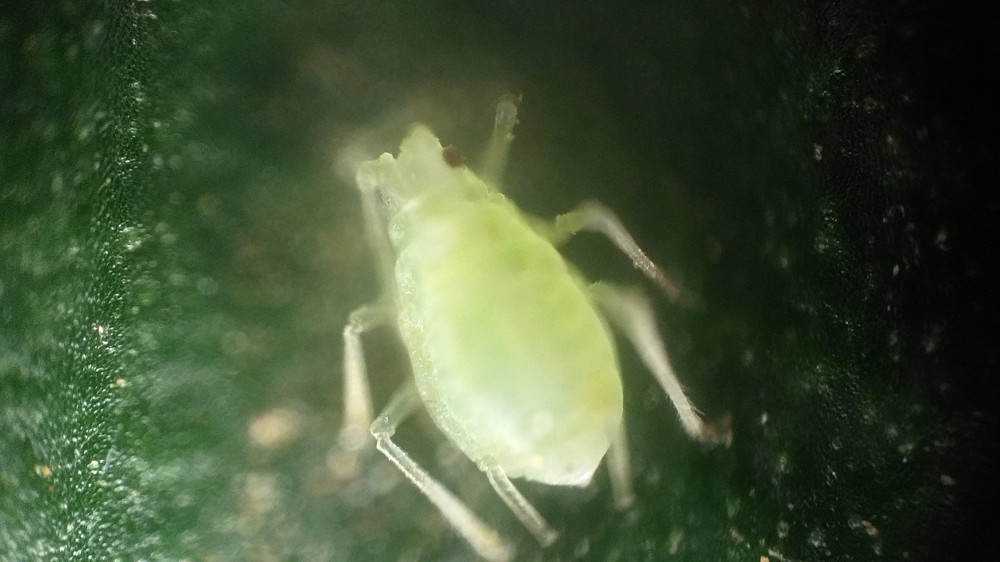Pulgon: (280, 82, 759, 562)
